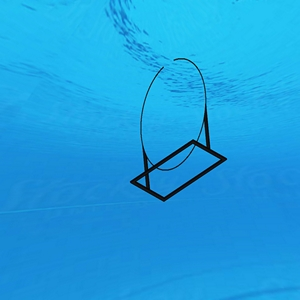circle: (126, 57, 230, 205)
